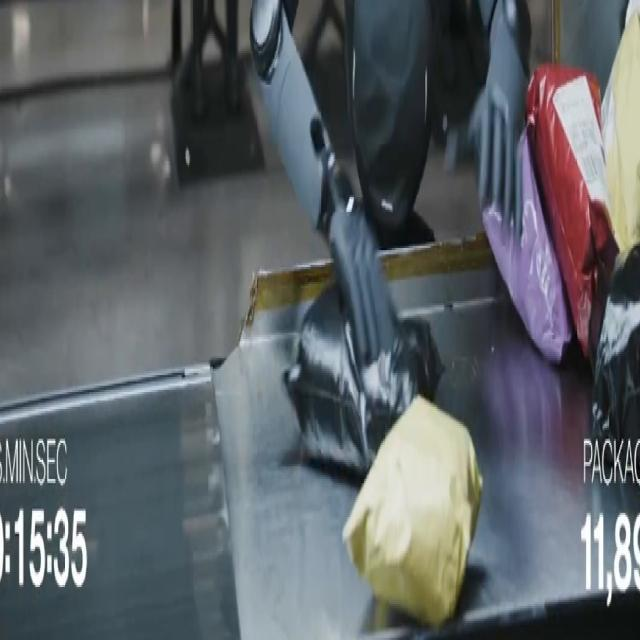package: (343, 399, 482, 627), (284, 284, 443, 476), (527, 64, 618, 358), (483, 132, 572, 364), (592, 244, 639, 442), (603, 0, 639, 252)
